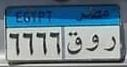6: (49, 31, 63, 58), (7, 32, 21, 55), (35, 30, 47, 56), (22, 31, 34, 57)
qaaf: (66, 29, 83, 56)
raa: (103, 33, 117, 54)
waw: (85, 32, 99, 54)
